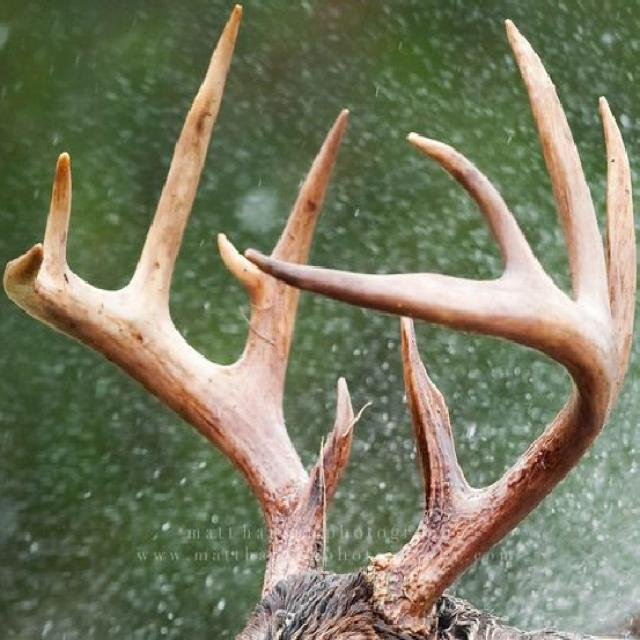L-F: (242, 246, 619, 638)
L-G1: (397, 316, 474, 541)
L-G2: (598, 91, 638, 384)
L-G3: (505, 15, 613, 325)
L-G4: (405, 129, 570, 298)
R-F: (2, 243, 325, 604)
R-G1: (306, 373, 355, 521)
R-G3: (116, 0, 245, 329)
R-G4: (43, 149, 76, 274)
